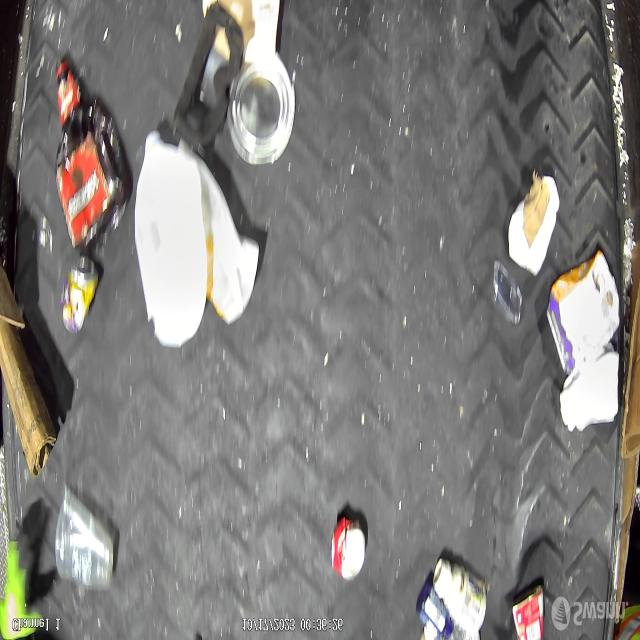can: (60, 253, 101, 337), (510, 582, 546, 640)
milk_jug: (134, 133, 208, 347), (201, 140, 260, 323)
non_white_jug: (54, 59, 131, 251)
